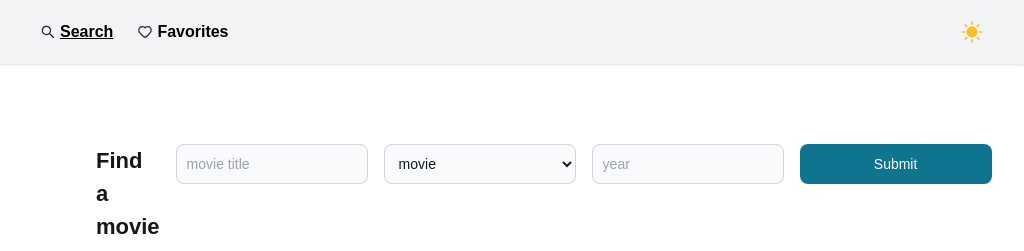
Test: search › should display required error when the title is empty
Click the submit button: point(896, 164) [800,144,992,184]
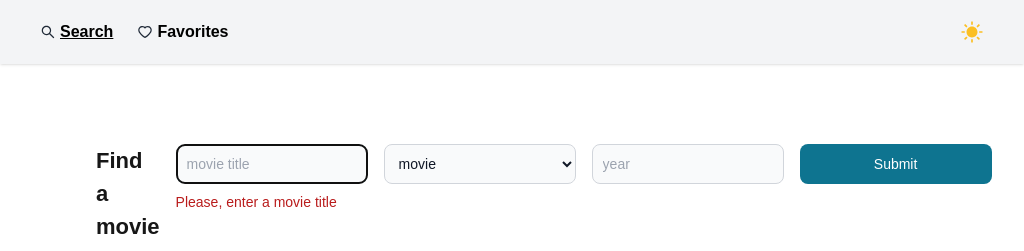
Check: the message "Please, enter a movie title" is shown, box [176,192,337,212]
